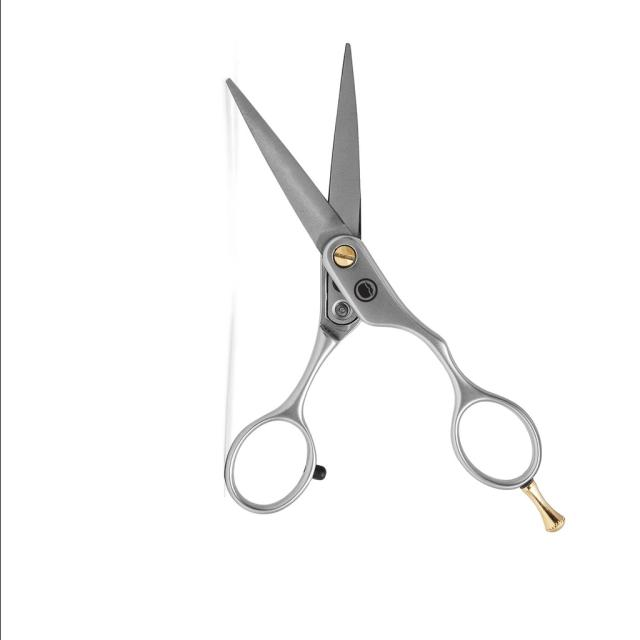scissor: (194, 30, 572, 542)
